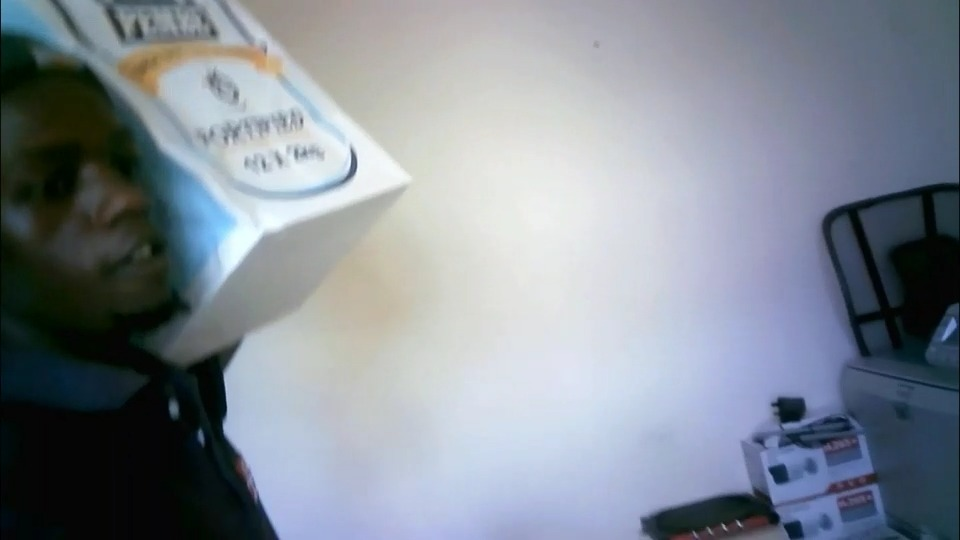wheat_flour_blue_label: (3, 2, 411, 370)
